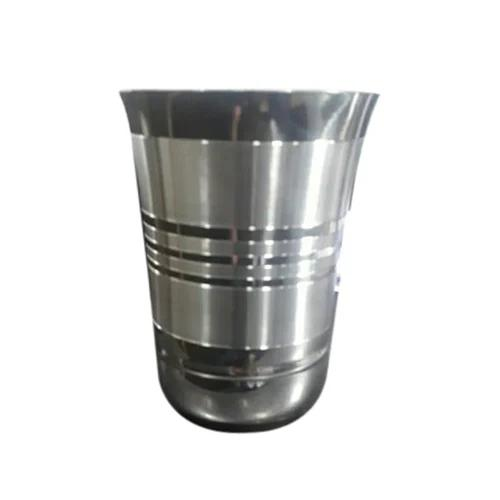glass-tumbler: (118, 87, 378, 431)
